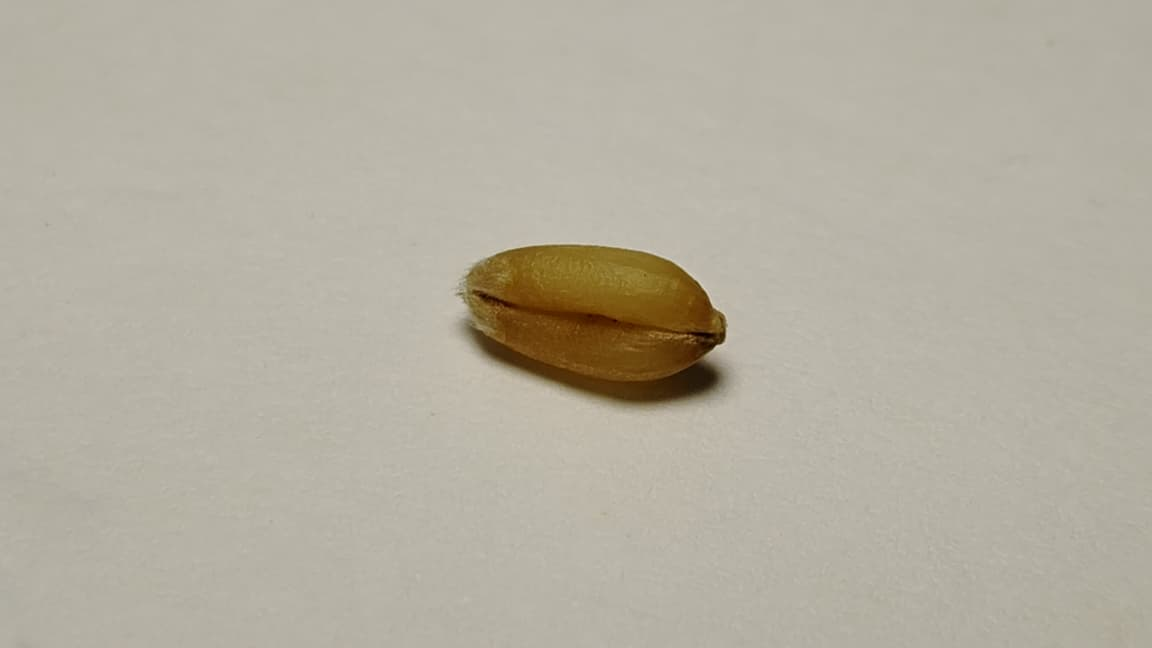healthy: (458, 243, 725, 381)
